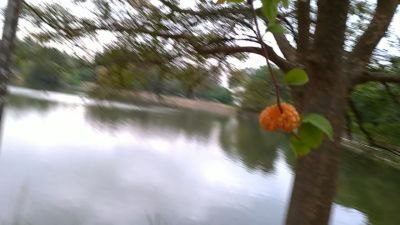eggs: (259, 103, 301, 133)
